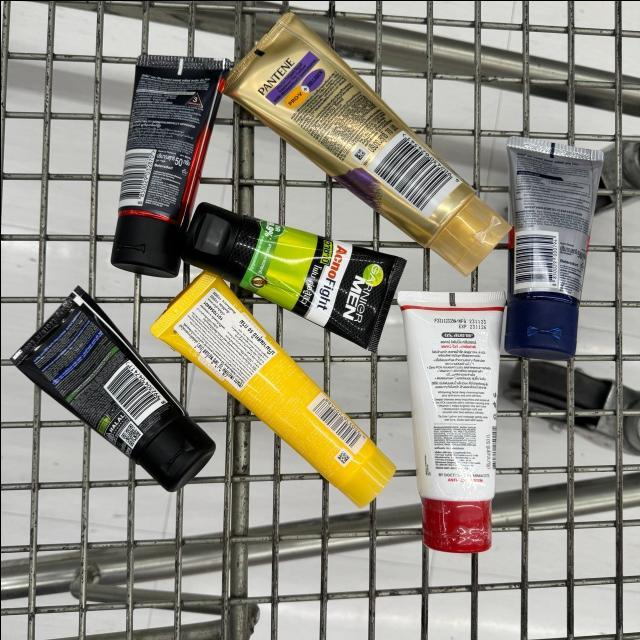Squeeze Tube: (225, 17, 514, 281), (148, 268, 398, 512), (7, 274, 227, 500), (184, 198, 415, 365), (106, 45, 232, 278), (406, 284, 511, 558), (497, 135, 610, 363)
